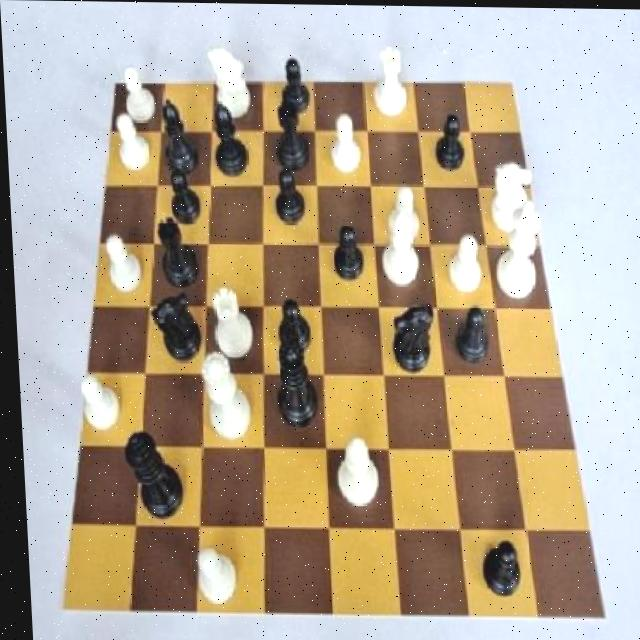bishop: (151, 84, 202, 178), (204, 96, 253, 183)
black-bishop: (109, 418, 187, 527)
black-king: (144, 286, 205, 368), (384, 292, 438, 379)
black-knight: (472, 522, 520, 601), (427, 105, 476, 174), (321, 215, 367, 288), (449, 296, 490, 377), (266, 159, 313, 229), (157, 165, 205, 228), (276, 49, 316, 122), (267, 292, 312, 356)
black-pawn: (264, 331, 321, 431)
black-queen: (147, 212, 203, 294), (268, 94, 318, 176)
black-rook: (323, 417, 381, 522), (374, 204, 422, 289)
white-bishop: (486, 190, 546, 304)
white-king: (200, 39, 261, 126), (486, 150, 537, 237)
white-knight: (177, 539, 244, 608), (94, 227, 148, 303), (64, 367, 124, 435), (112, 60, 162, 128), (377, 175, 427, 240), (441, 227, 485, 298), (109, 112, 155, 179), (326, 107, 363, 176)
white-pawn: (192, 344, 252, 442)
white-queen: (201, 279, 255, 362), (367, 40, 417, 121)
